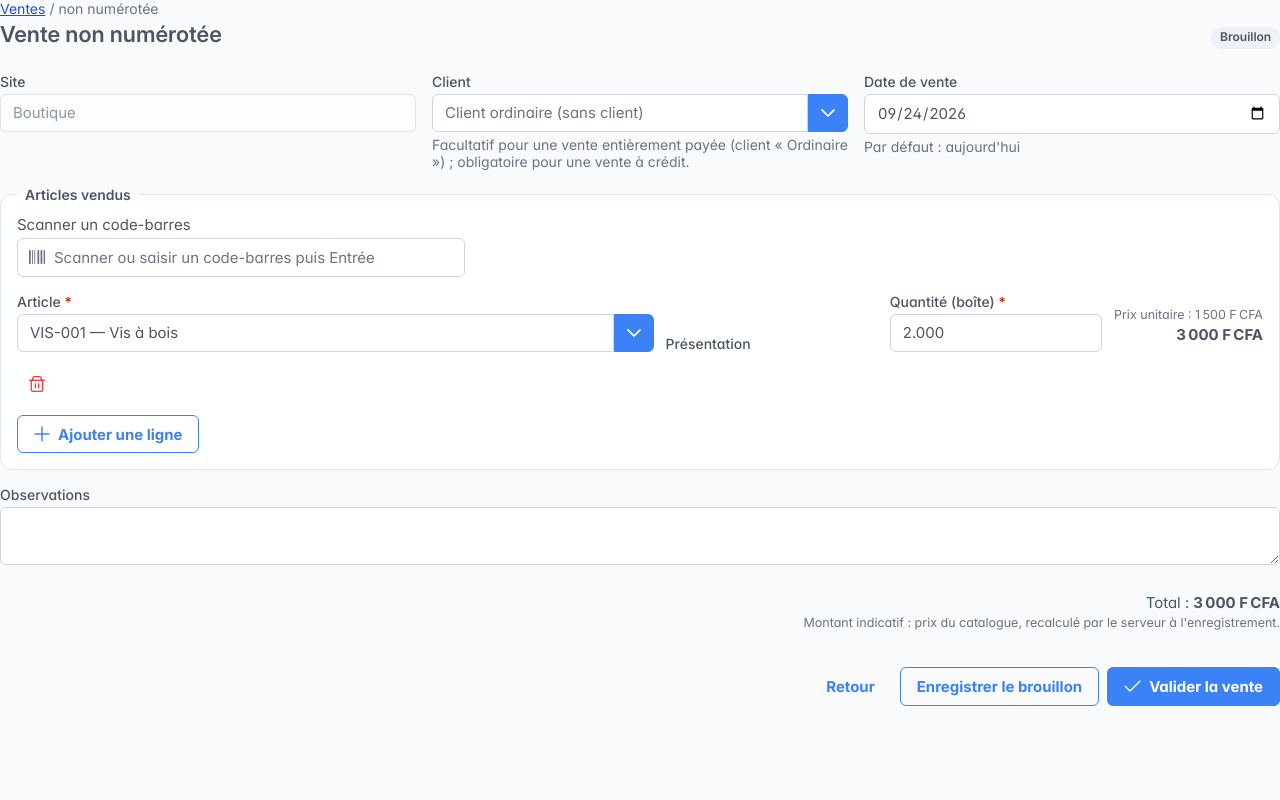
saisie et consultation d’une vente › validation refusée pour stock insuffisant : message détaillé
This screenshot has width=1280, height=800.
Click the button "Valider la vente". click: [1194, 686]
box: [1107,667,1279,706]
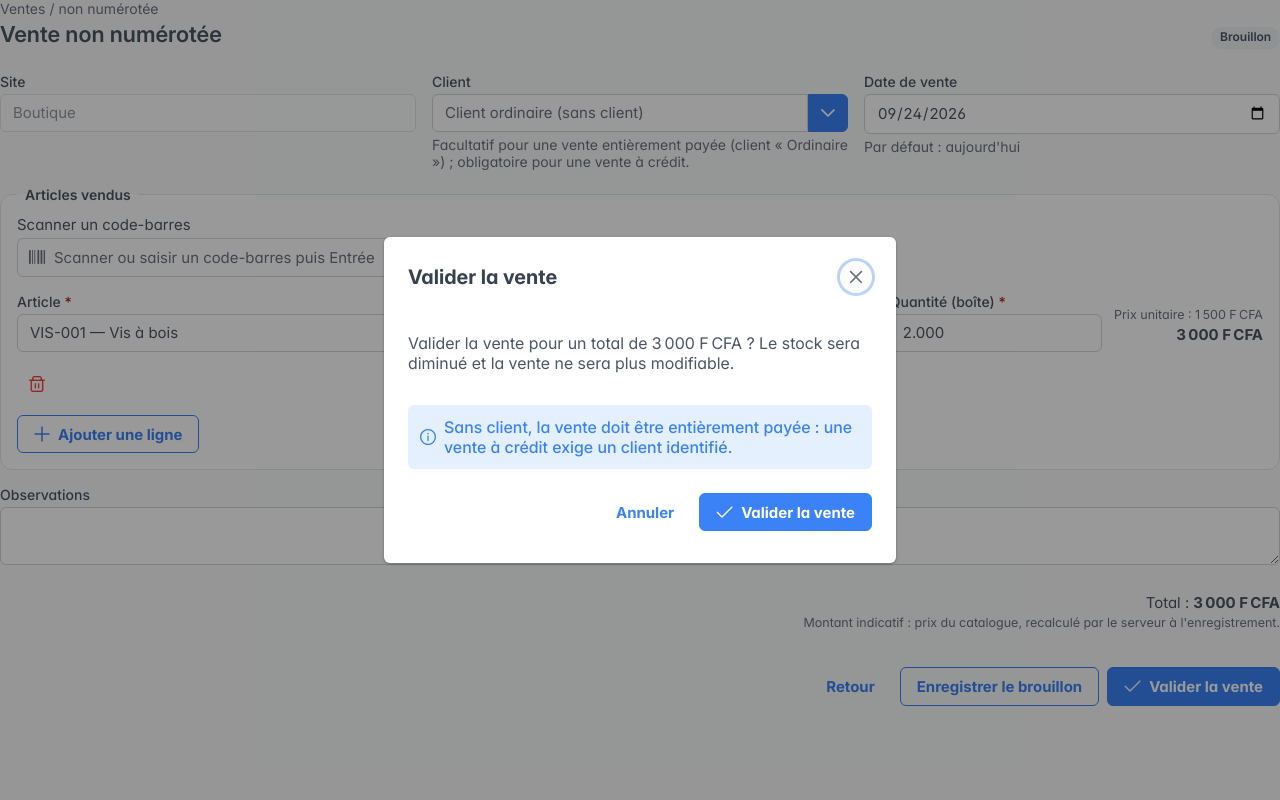
Click the button "Valider la vente". click: [786, 512]
box: [699,493,872,531]
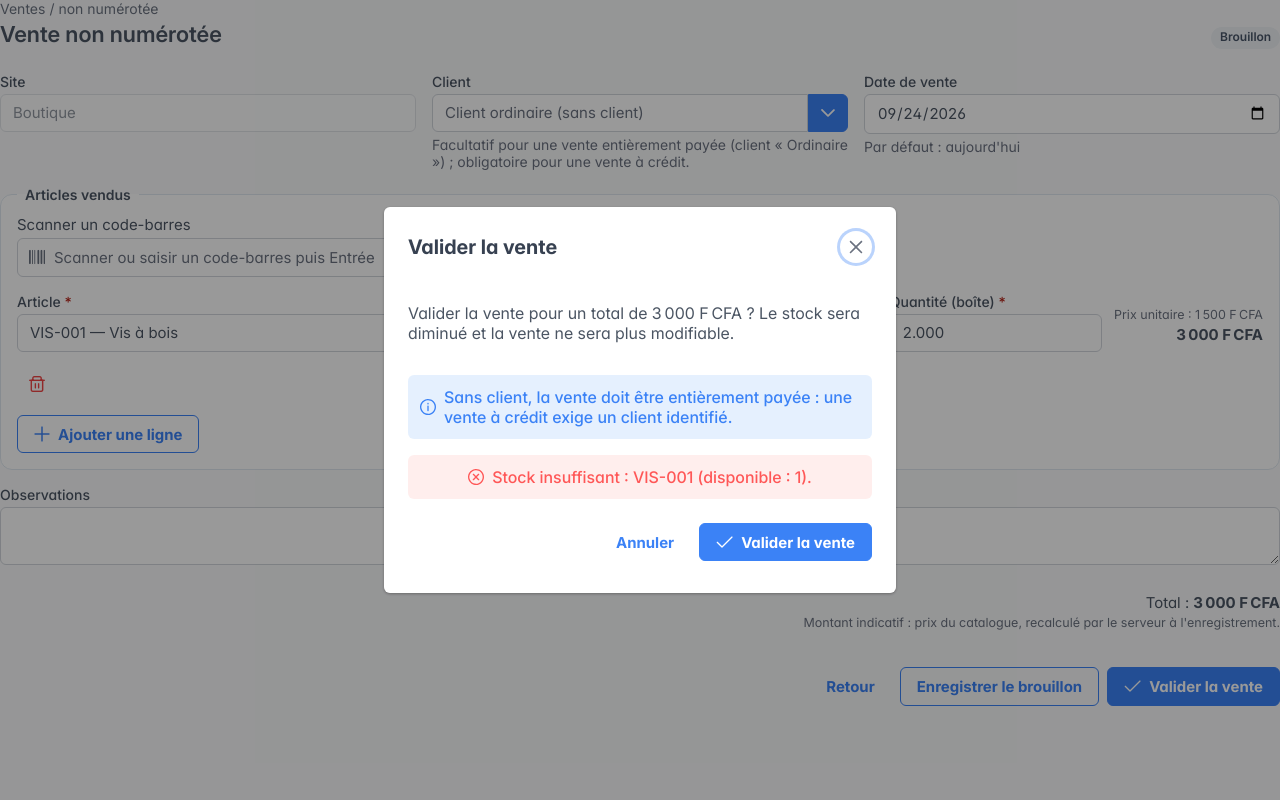
Expected: the text "Stock insuffisant : VIS-001 (disponible : 1)." is shown, [492,467,812,487]
